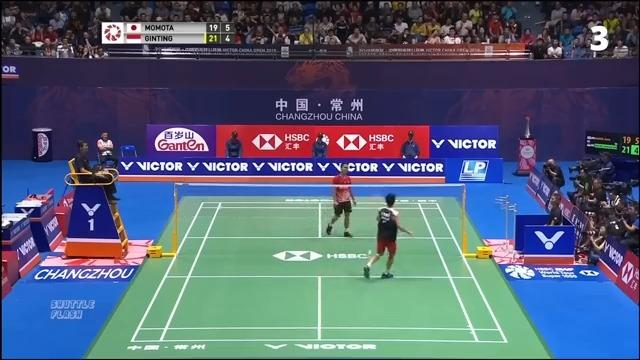Shuttlecock: (365, 245, 373, 255)
